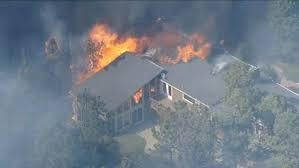fire: (77, 24, 212, 74)
